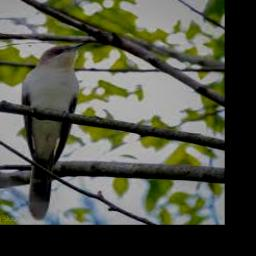Cuckoo: (23, 43, 88, 219)
